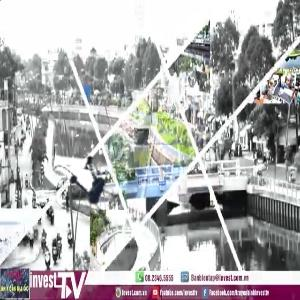drone: (52, 153, 138, 239)
